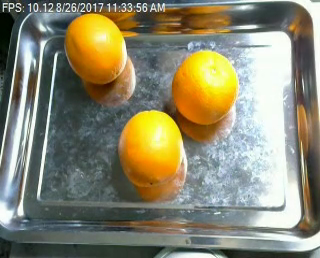Orange: (116, 109, 184, 188), (171, 48, 240, 124), (63, 12, 127, 83)
